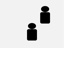human: (38, 4, 51, 24), (25, 22, 38, 41)
